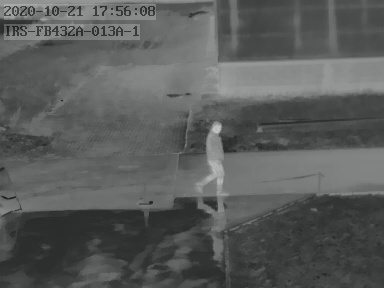person: (203, 118, 229, 192)
